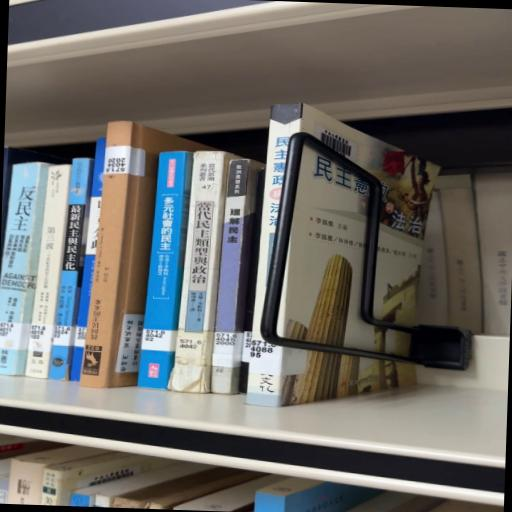reverse: (81, 122, 214, 388)
